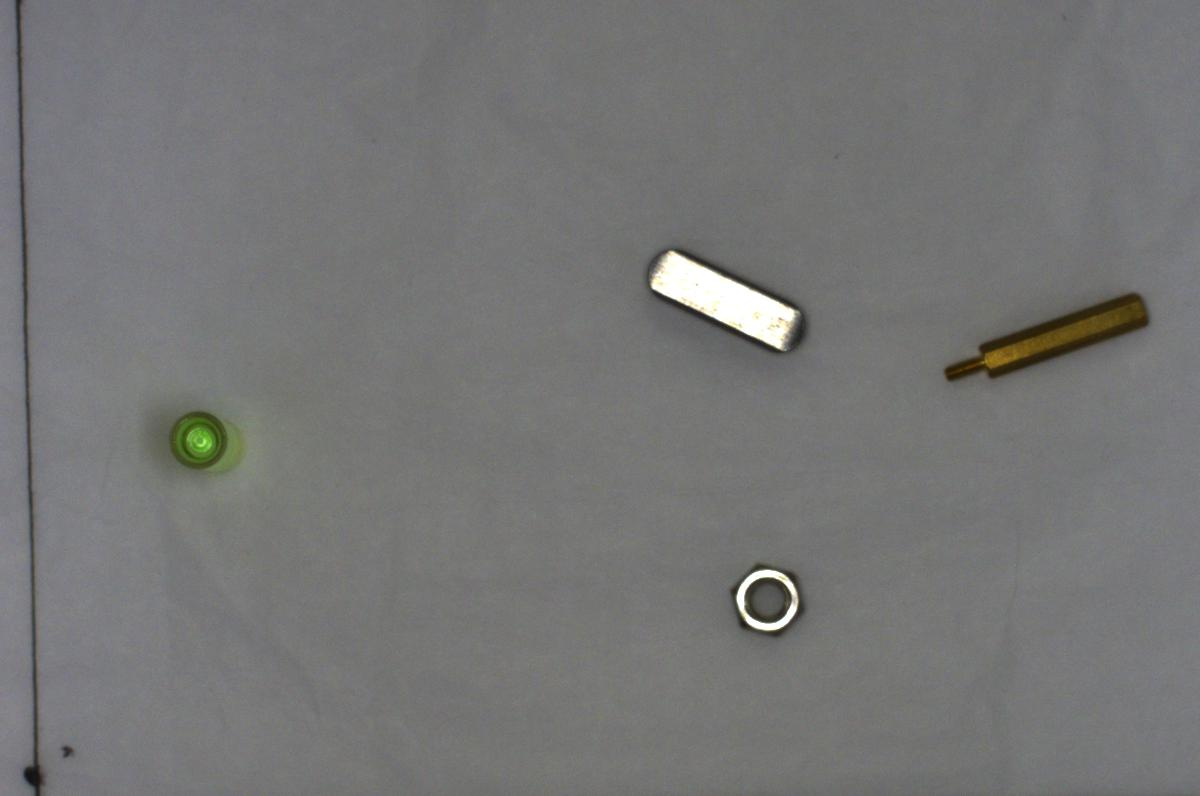Hexagon nut: (715, 556, 812, 646)
Hexagon pillar: (933, 281, 1159, 399)
Horizontal bubble: (160, 399, 246, 486)
Keybar: (634, 235, 812, 359)
